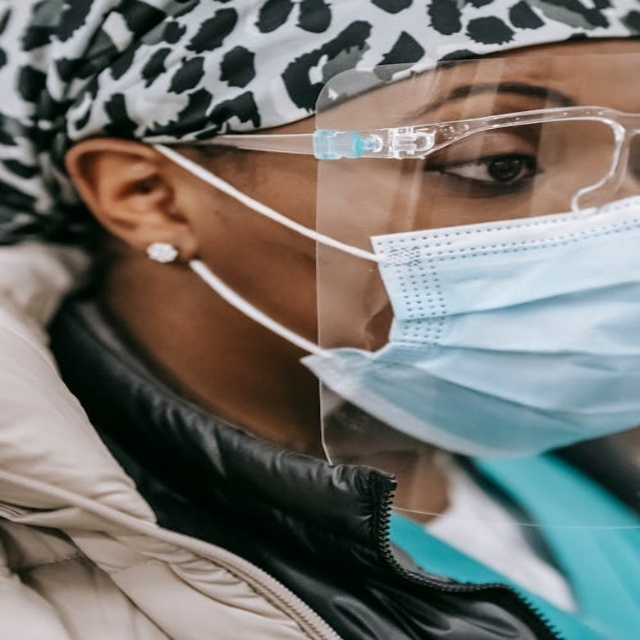Gafas: (142, 71, 637, 236)
Mascara: (294, 180, 639, 462)
